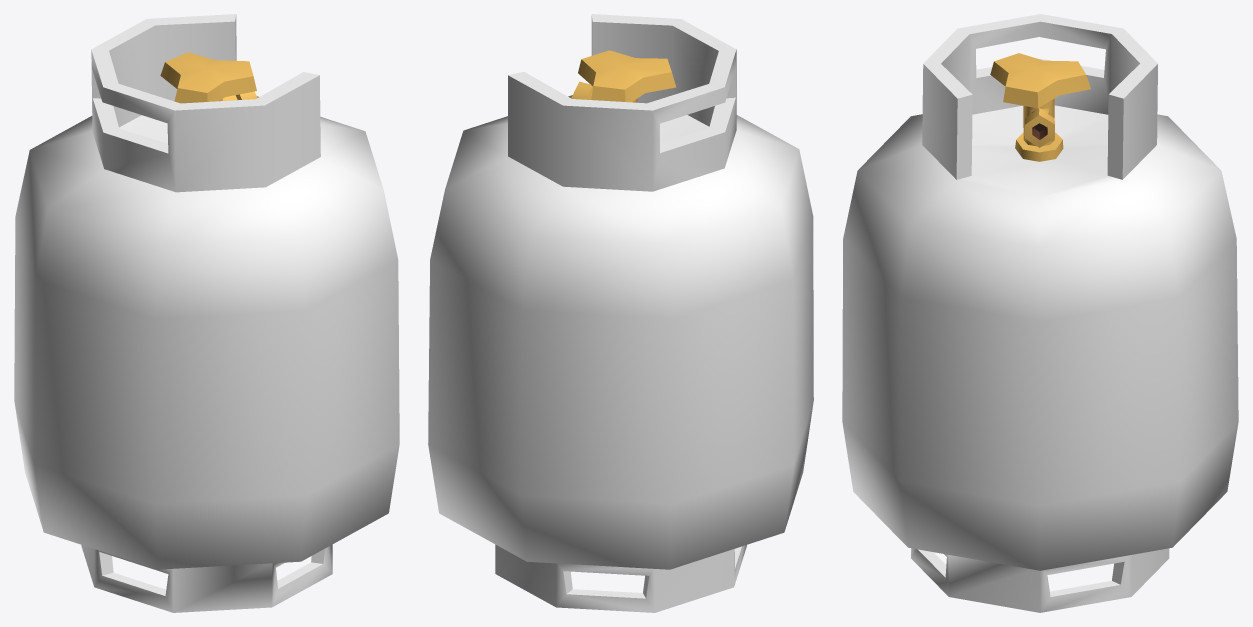
The model's file is SM_Prop_Propanel_01.obj.
3 renders of one model, left to right at view 1: azimuth 30°, elevation 25°; view 2: azimuth 150°, elevation 25°; view 3: azimuth 270°, elevation 25°, orthographic.
Parts seen in each view (by area): view 1: SM_Prop_Propanel_01_Mat_SwatchOverlay_PolygonTown_01_Inst; view 2: SM_Prop_Propanel_01_Mat_SwatchOverlay_PolygonTown_01_Inst; view 3: SM_Prop_Propanel_01_Mat_SwatchOverlay_PolygonTown_01_Inst.
Part boxes in pixels (x1,y1,x2,y2): SM_Prop_Propanel_01_Mat_SwatchOverlay_PolygonTown_01_Inst: (14, 14, 399, 612); SM_Prop_Propanel_01_Mat_SwatchOverlay_PolygonTown_01_Inst: (428, 14, 813, 612); SM_Prop_Propanel_01_Mat_SwatchOverlay_PolygonTown_01_Inst: (842, 14, 1238, 612).
Bounding box in the file's own units: 0.3377 × 0.4648 × 0.3377.
1 material, 1 textured.
